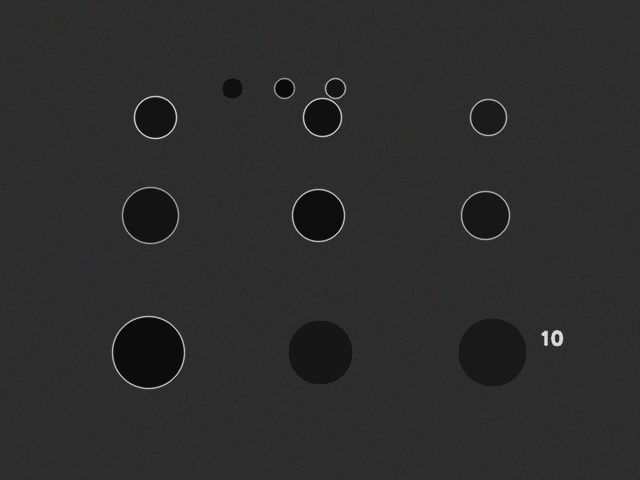hole: (112, 316, 184, 388), (458, 318, 526, 386), (288, 320, 352, 384), (122, 187, 178, 243), (292, 189, 344, 241), (461, 191, 509, 239), (134, 96, 176, 138), (303, 98, 341, 136), (470, 99, 506, 135), (222, 78, 242, 98), (274, 78, 294, 98), (325, 78, 345, 98)
